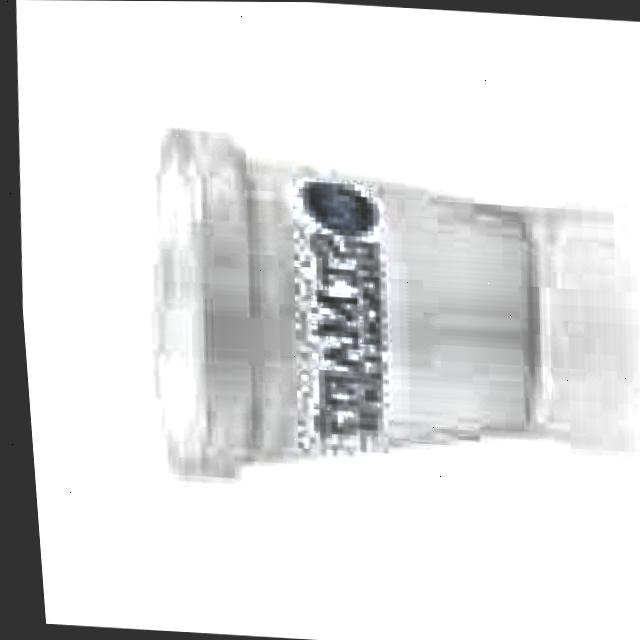paper: (130, 127, 548, 485)
